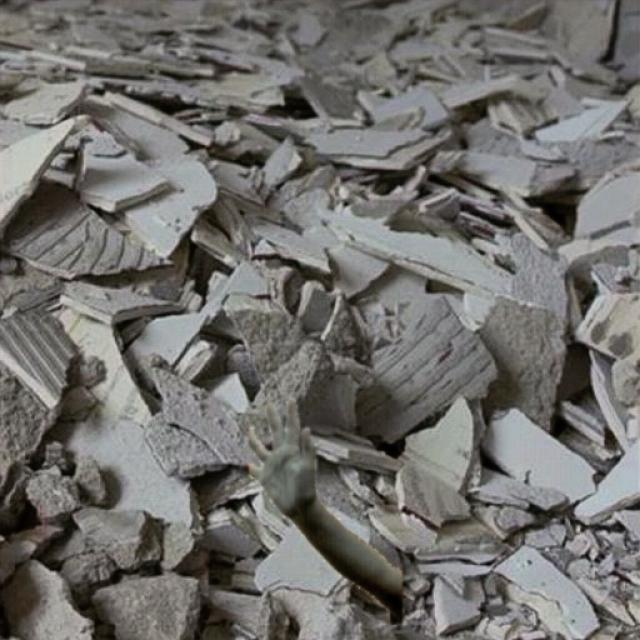Person in Rubble: (248, 398, 402, 626)
